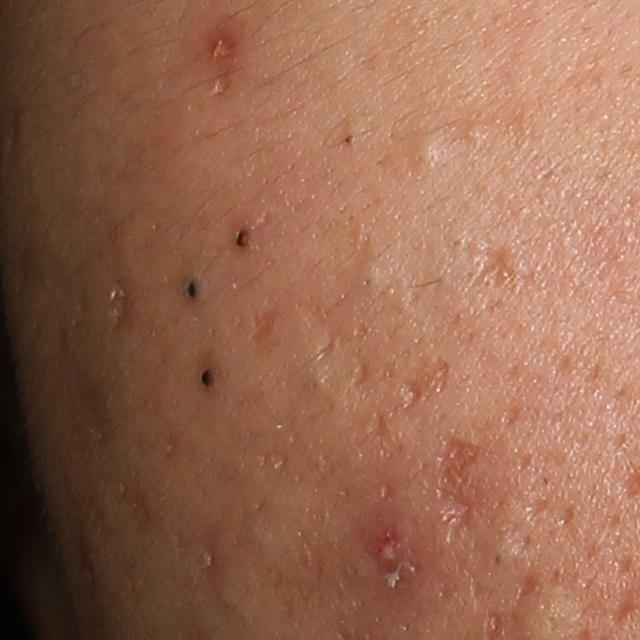atrophic_scar: (55, 332, 117, 447), (435, 436, 485, 544), (430, 540, 490, 608), (396, 354, 453, 415), (465, 236, 516, 294), (108, 278, 134, 331), (250, 302, 280, 347), (316, 330, 338, 374), (500, 402, 520, 429)
comedo: (460, 116, 492, 143)
